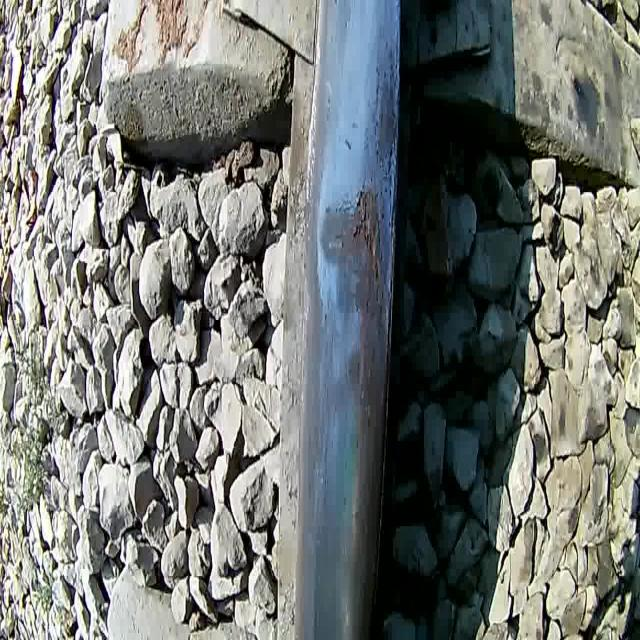Cracks: (385, 112, 399, 206)
Spallings: (352, 187, 382, 288)
Squats: (316, 182, 384, 325), (367, 42, 401, 171)
